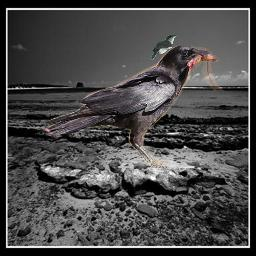Crow: (41, 41, 230, 168)
Cuckoo: (150, 34, 179, 60)
